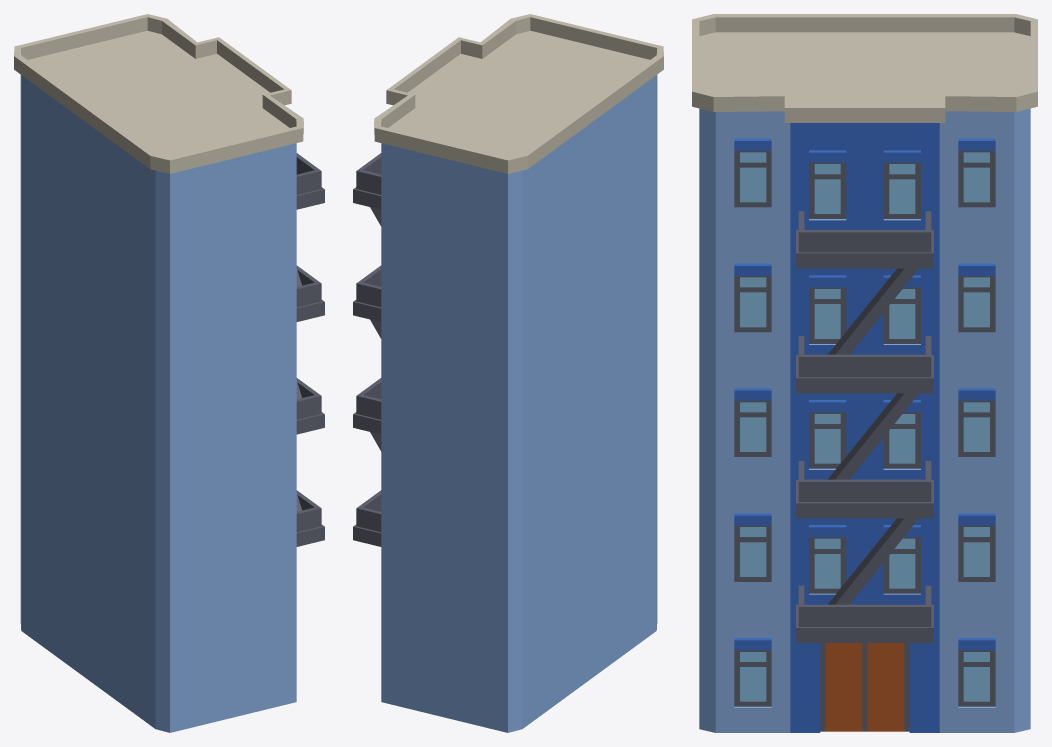
3 views of the same model, side by side, from view 1: azimuth 30°, elevation 25°; view 2: azimuth 150°, elevation 25°; view 3: azimuth 270°, elevation 25° (orthographic). The views are drawn at different scales.
Visible parts, largest first — view 1: Predio 7.001; view 2: Predio 7.001; view 3: Predio 7.001.
Boxes of the visible parts, <box> form: Predio 7.001: <box>14,14,324,732</box>; Predio 7.001: <box>353,14,663,732</box>; Predio 7.001: <box>692,14,1037,732</box>.
Bounding box in the file's own units: 4912 × 12764 × 6258.
